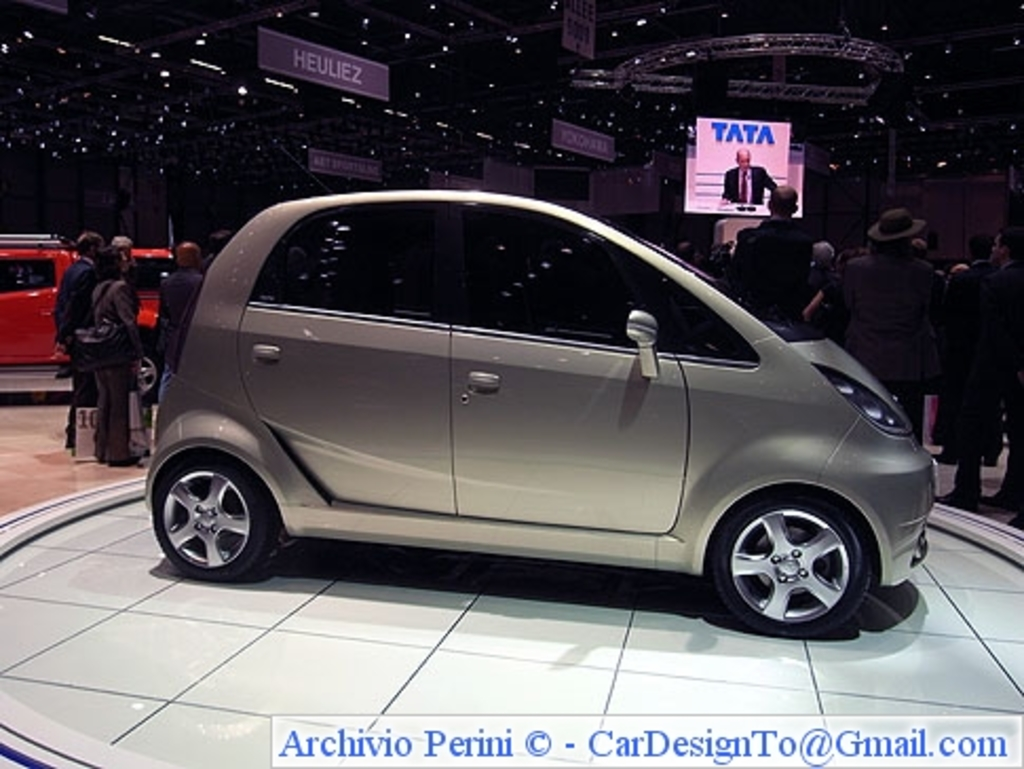Person: (53, 147, 1023, 530)
